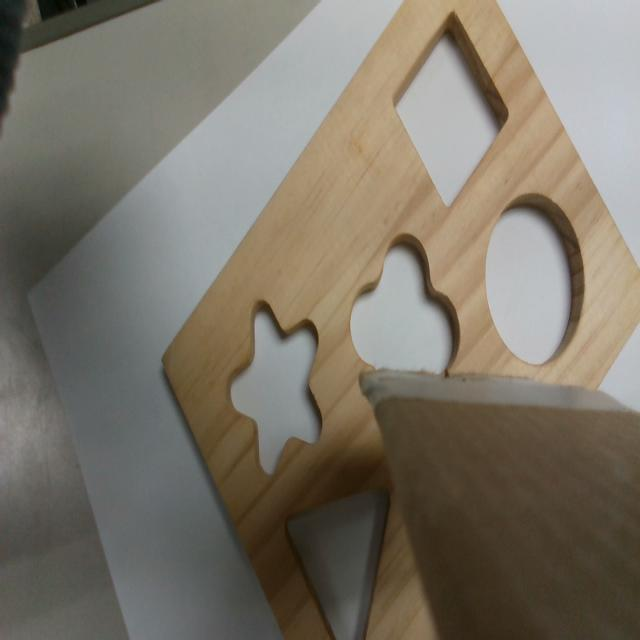circle: (487, 201, 586, 362)
flower: (348, 225, 461, 377)
square: (389, 9, 510, 212)
star: (230, 300, 321, 469)
triangle: (283, 482, 393, 637)
